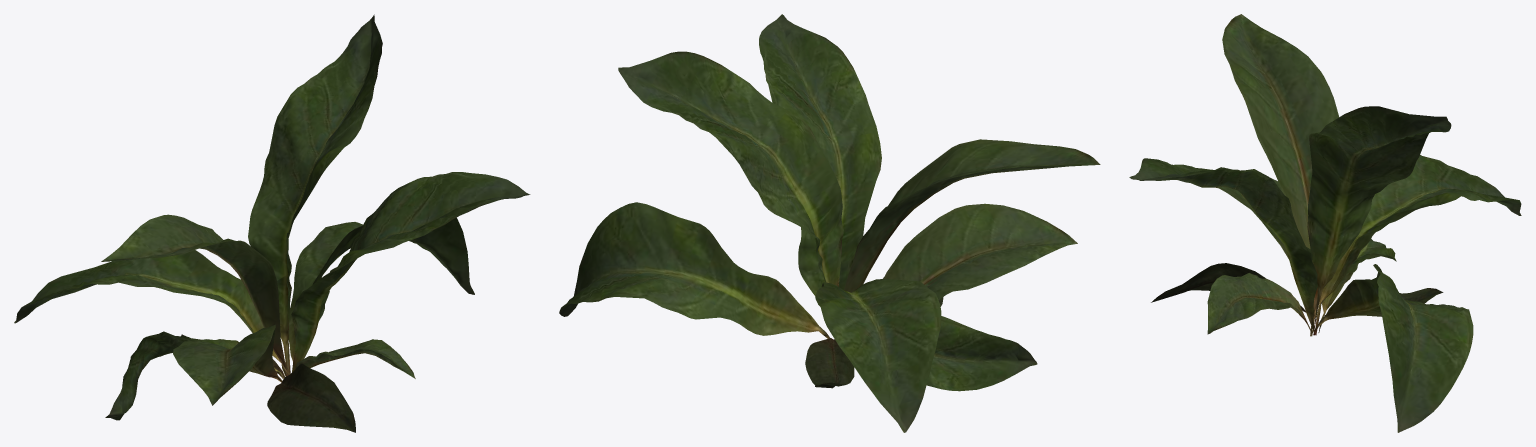
File: planta-media.glb
The picture shows the model from 3 angles, left to right: view 1: azimuth 30°, elevation 25°; view 2: azimuth 150°, elevation 25°; view 3: azimuth 270°, elevation 25°; orthographic projection.
Visible parts, largest first — view 1: anthurium_botany_01_b; view 2: anthurium_botany_01_b; view 3: anthurium_botany_01_b.
Boxes of the visible parts, x1,y1,x2,y2 form: anthurium_botany_01_b: (14,14,530,432); anthurium_botany_01_b: (559,14,1100,432); anthurium_botany_01_b: (1129,14,1521,432).
Size of the model in its own units: 0.7563 by 0.4705 by 0.5717.
1 material, 1 textured.
